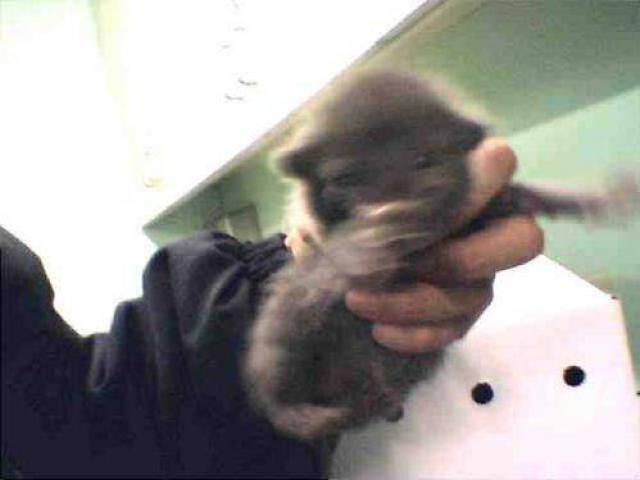cat: (246, 77, 546, 434)
